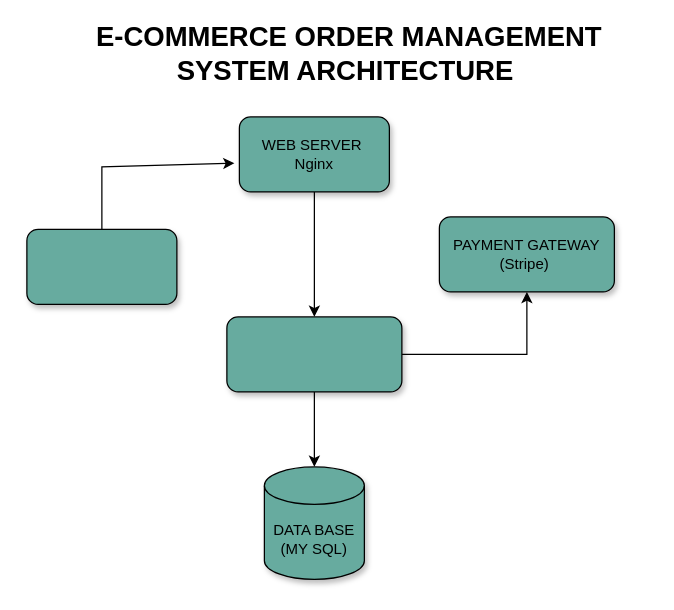
This 674x610 diagram has some shape labels left out. Here are the shapes that lost their labels. From the top down, the centre of each, then its label:
At point 102,268: "COSTOMER (WEB/MOBILE APP)".
At point 315,356: "APPLICATION SERVER (Note.js)".
